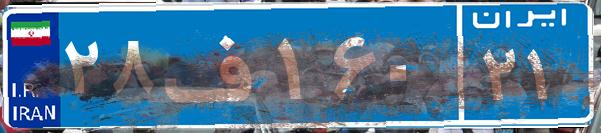0: (385, 28, 445, 110)
1: (273, 28, 330, 110), (525, 38, 570, 115)
2: (57, 26, 110, 107), (475, 38, 525, 113)
6: (330, 28, 385, 110)
8: (110, 28, 158, 105)
ف: (158, 15, 273, 115)
